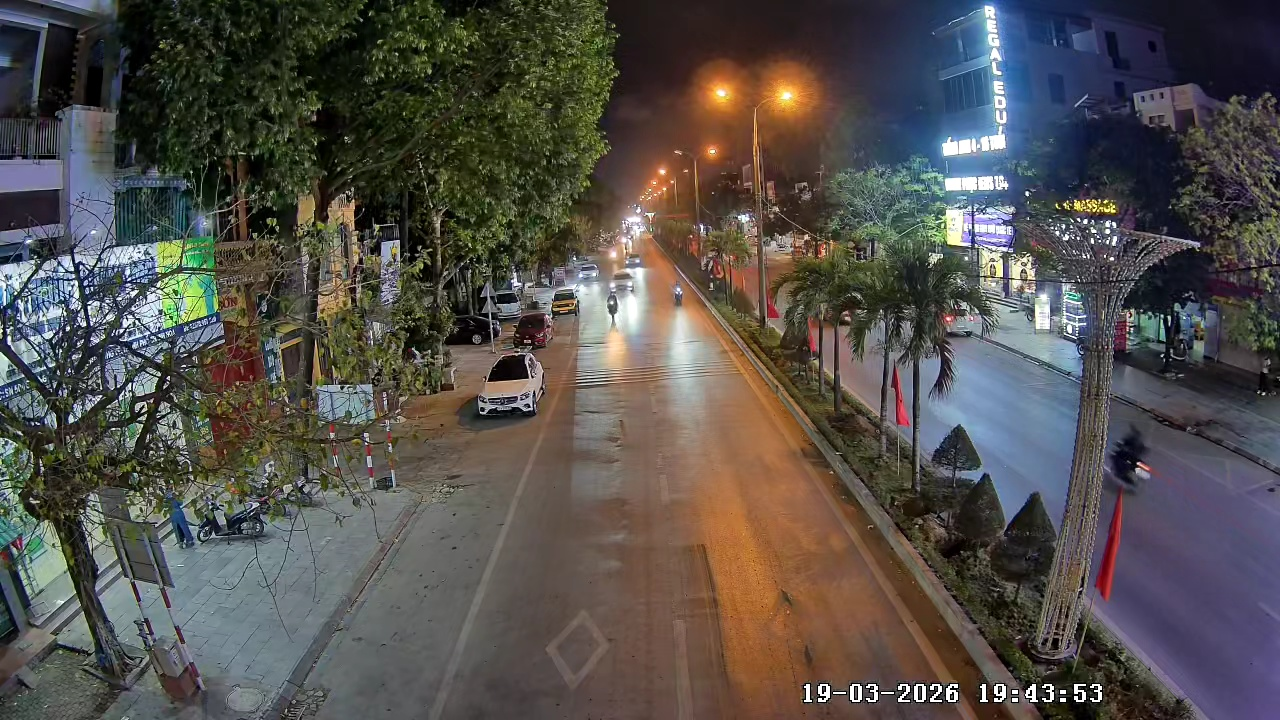car: (474, 347, 548, 418), (512, 309, 552, 349), (551, 284, 581, 317), (607, 270, 639, 295)
motorbike: (1103, 425, 1153, 494), (606, 283, 622, 318), (672, 280, 687, 305)
